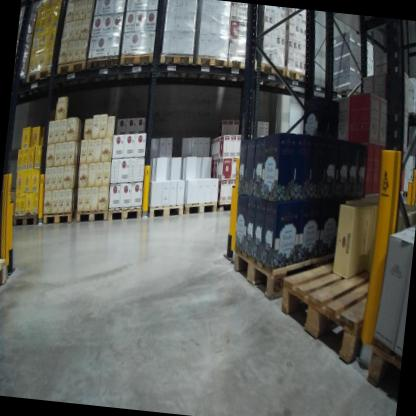pallet: (267, 230, 397, 376), (226, 227, 358, 336), (363, 337, 401, 398), (82, 47, 121, 91), (269, 65, 317, 99), (115, 44, 155, 84), (185, 46, 227, 84), (153, 46, 193, 85), (53, 49, 89, 90), (21, 61, 55, 101), (143, 195, 185, 227), (250, 56, 289, 88), (220, 53, 260, 84), (106, 201, 146, 228), (182, 197, 218, 221), (41, 205, 76, 229), (73, 205, 109, 227), (214, 193, 242, 220), (12, 69, 34, 103), (333, 85, 370, 102), (11, 212, 39, 231), (0, 255, 12, 299)
